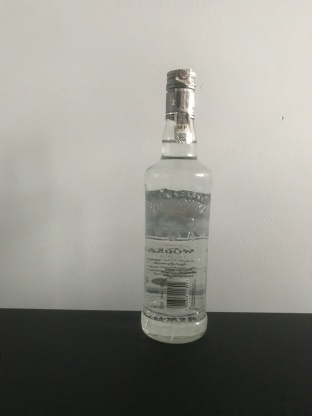nakretka: (163, 66, 197, 122)
